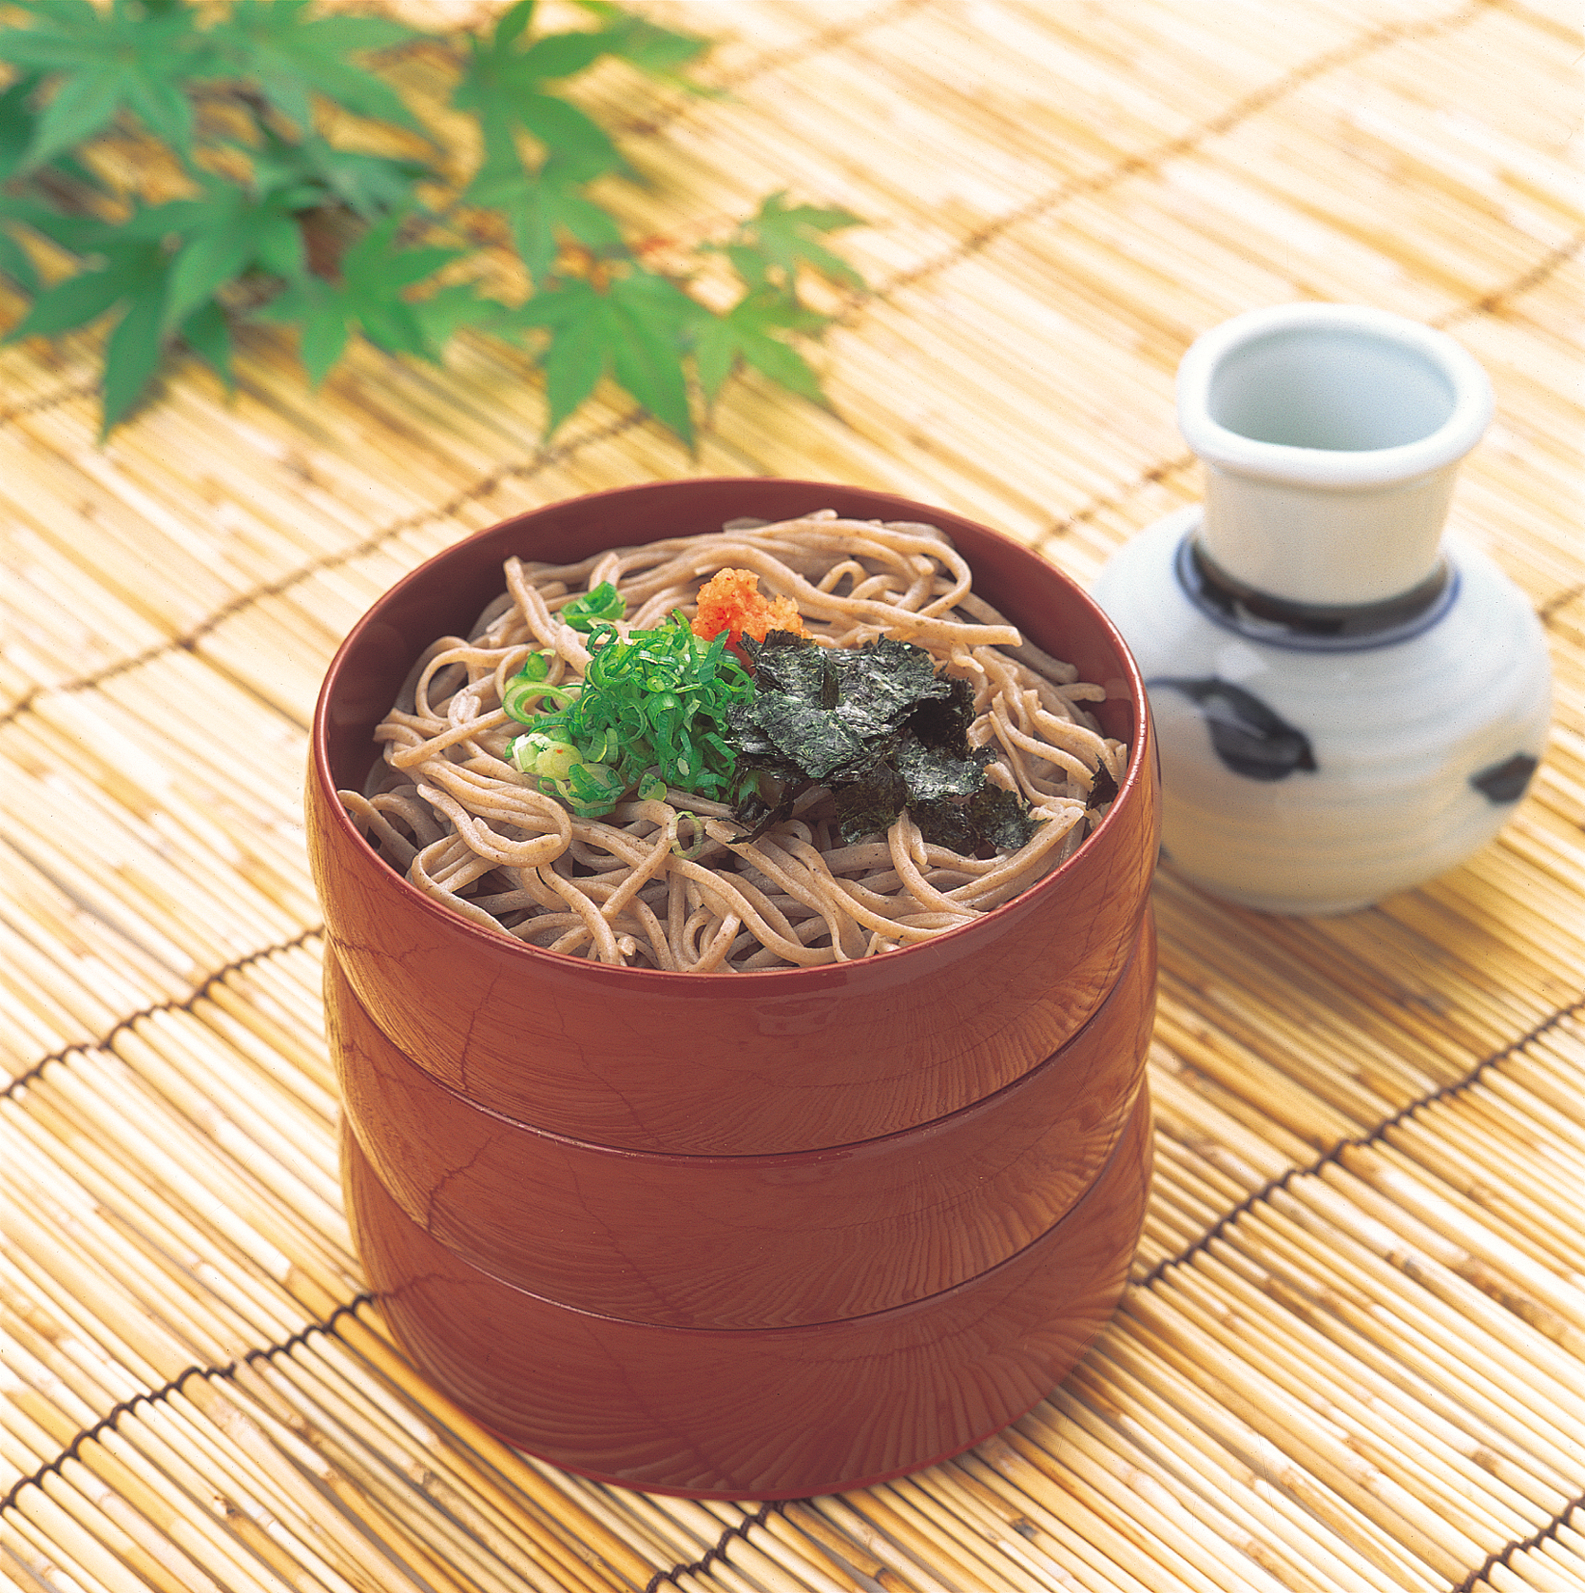Soba: (364, 483, 1125, 963)
